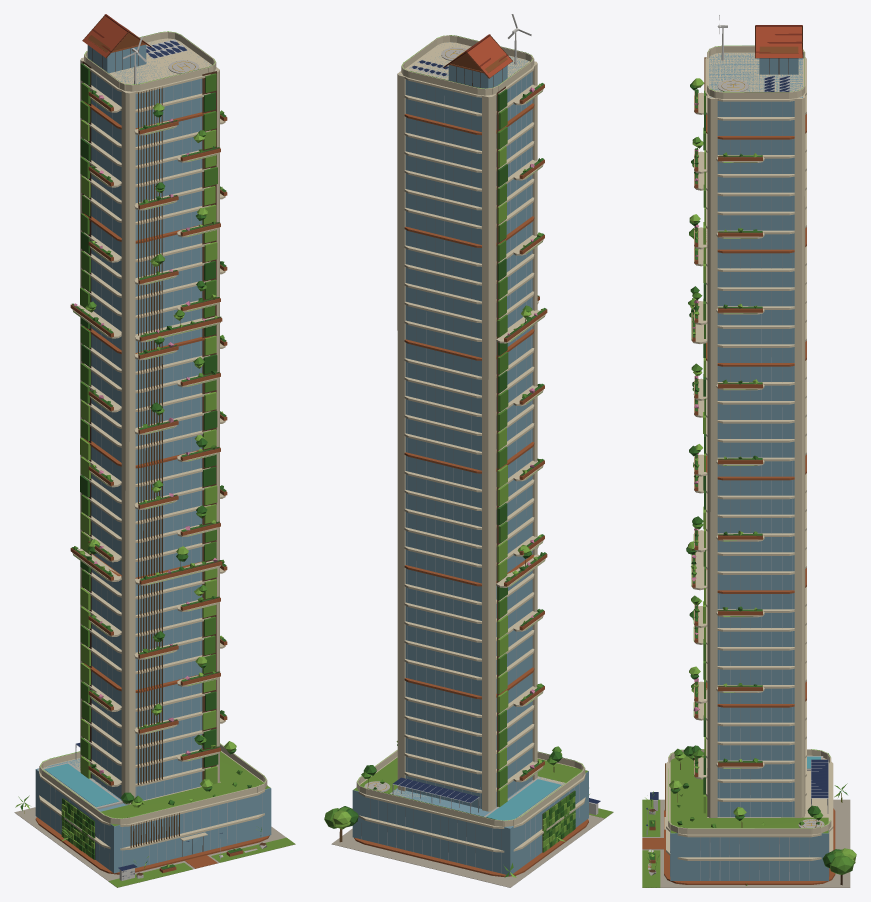
File: home_5.glb
3 views of the same model, side by side, from view 1: azimuth 30°, elevation 25°; view 2: azimuth 150°, elevation 25°; view 3: azimuth 270°, elevation 25° (orthographic).
Parts seen in each view (by area): view 1: body, windows; view 2: body, windows; view 3: body, windows.
Boxes of the visible parts, bbox=[...] form: body: bbox=[14, 14, 295, 887]; windows: bbox=[40, 31, 266, 818]; body: bbox=[324, 14, 613, 887]; windows: bbox=[357, 35, 584, 820]; body: bbox=[642, 15, 856, 887]; windows: bbox=[668, 45, 830, 828].
Bounding box in the file's own units: 34.51 × 138 × 32.84.
